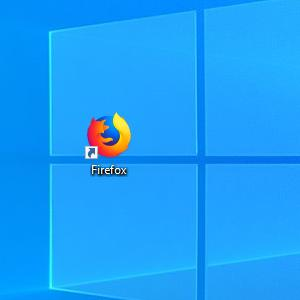firefox: (84, 111, 132, 160)
